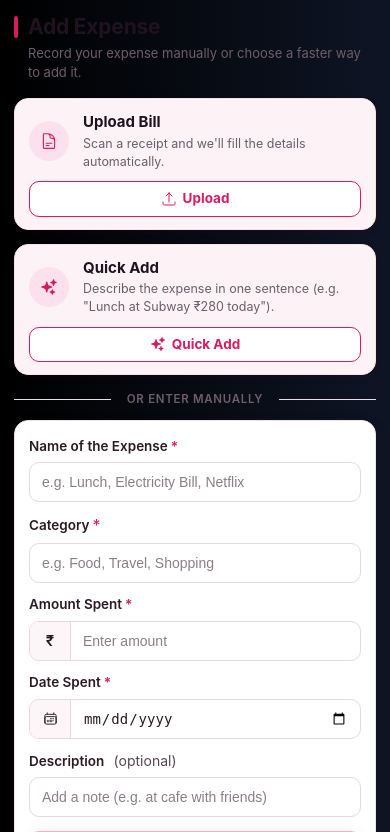
Test: AddExpense -- ML-003-T06 'Save merchant rule' shortcut on the abstention banner › does not falsely offer the shortcut for a committed (non-abstained) prediction
Type "Starbucks Coffee" into the field labelled "Name of the Expense*" at x=195, y=482, box [29,462,361,502]
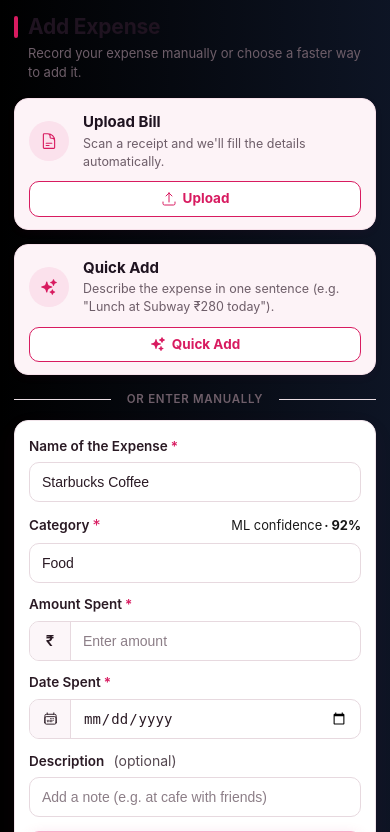
Now the field labelled "Category" holds "Food", box [29,544,361,584]
